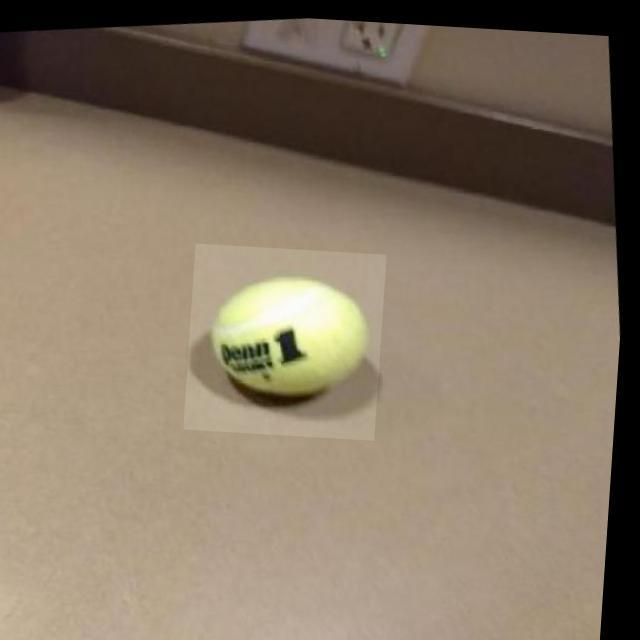-: (189, 241, 390, 436)
